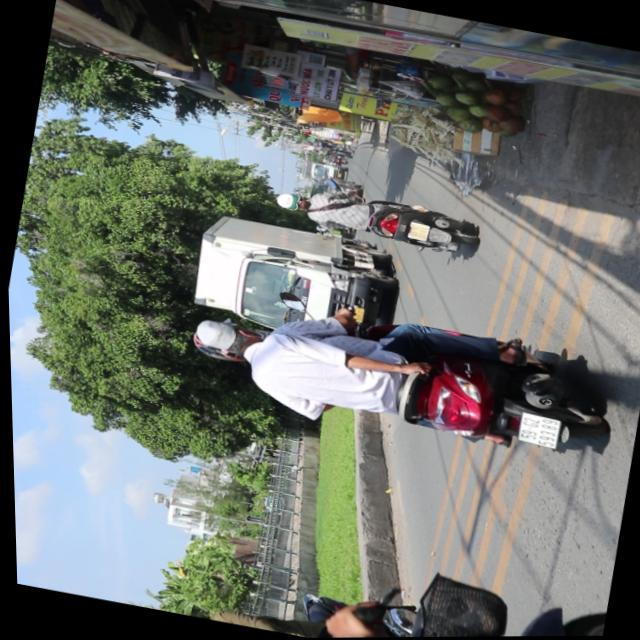helmet: (272, 191, 306, 214)
licenseplate: (167, 270, 623, 478), (266, 176, 483, 265)
motorcyclist: (189, 315, 265, 360)
nohelmet: (513, 412, 557, 450), (404, 222, 428, 243)
